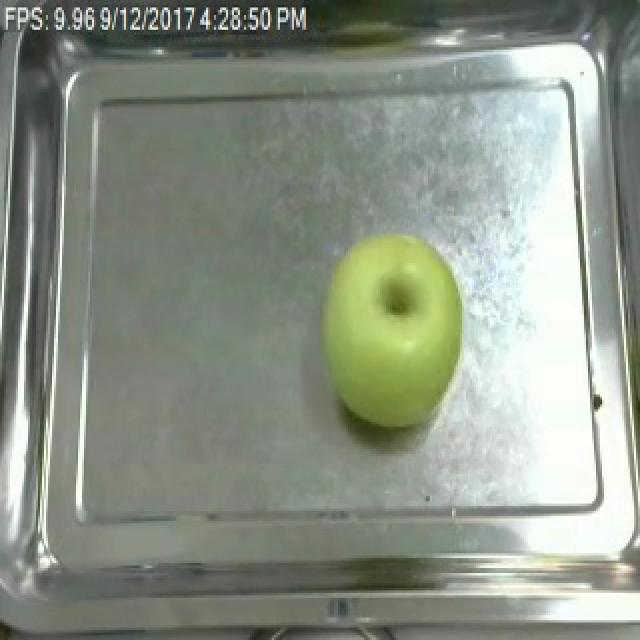50-_ripeness: (316, 229, 464, 438)
